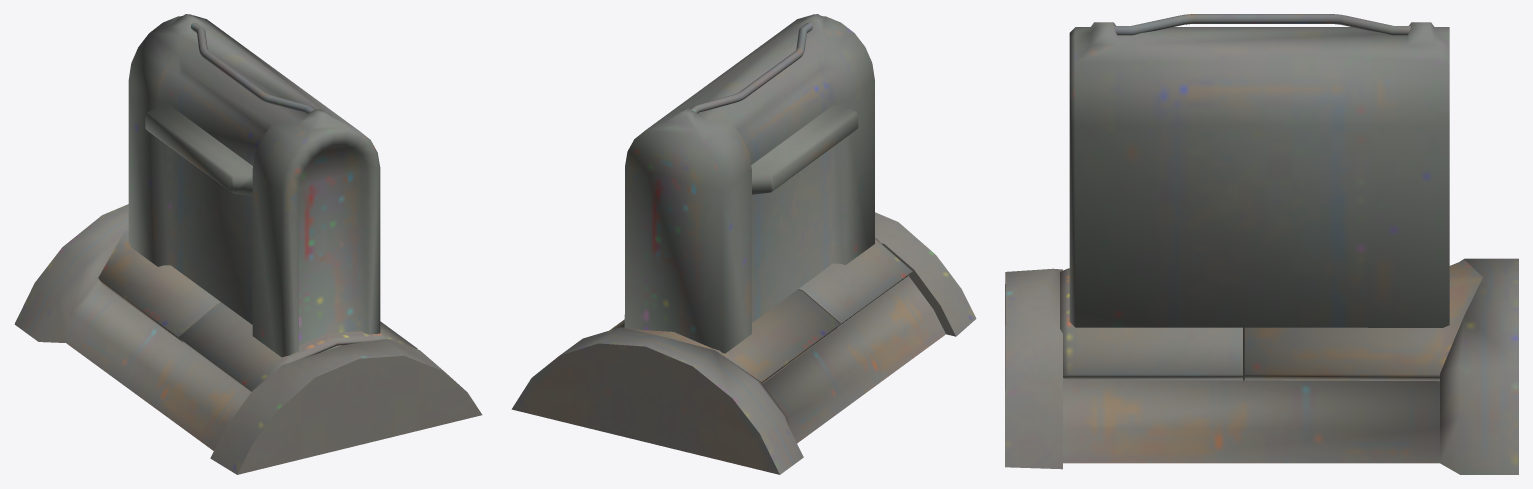
Rendered from mag5.obj.
3 renders of one model, left to right at view 1: azimuth 30°, elevation 25°; view 2: azimuth 150°, elevation 25°; view 3: azimuth 270°, elevation 25°, orthographic. The views are drawn at different scales.
Visible parts, largest first — view 1: mag5; view 2: mag5; view 3: mag5.
Boxes of the visible parts, x1,y1,x2,y2 form: mag5: (14,14,482,474); mag5: (511,14,976,474); mag5: (1005,14,1518,474).
Bounding box in the file's own units: 16.52 × 17.75 × 22.25.
